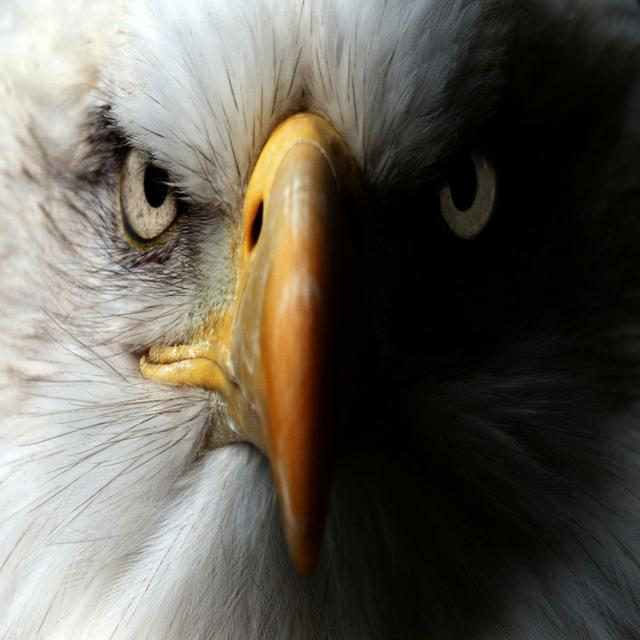eagle: (1, 0, 639, 639)
